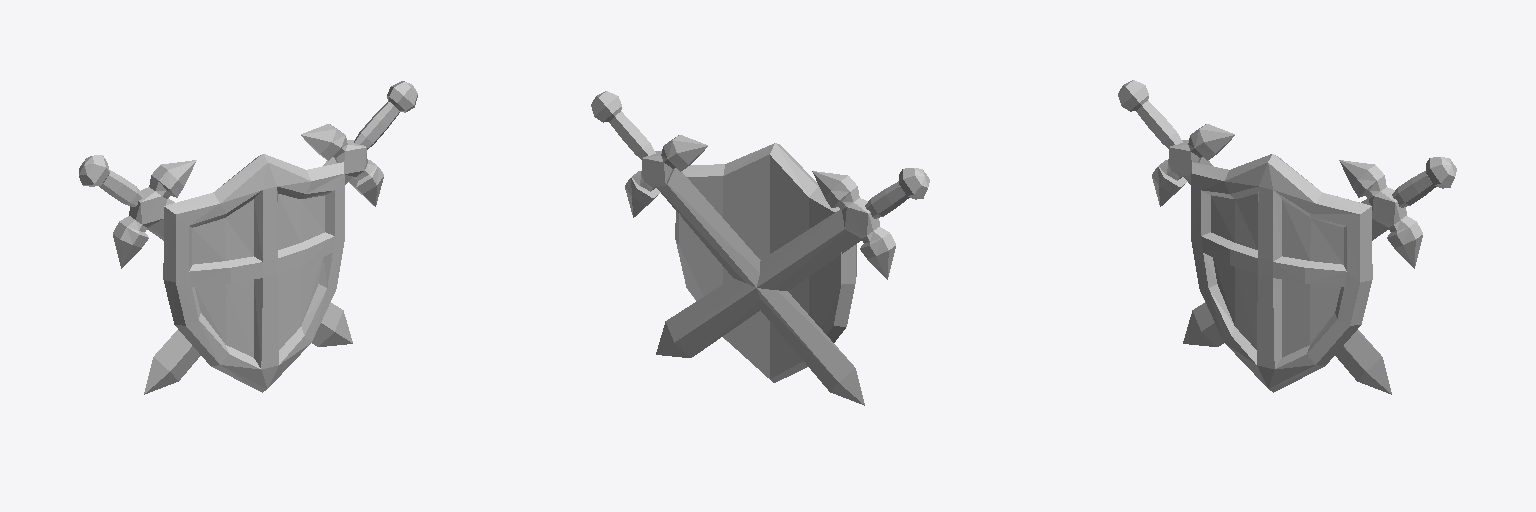
The model's file is sword_shield.obj.
3 renders of one model, left to right at view 1: azimuth 30°, elevation 25°; view 2: azimuth 150°, elevation 25°; view 3: azimuth 330°, elevation 25°, orthographic.
Visible parts, largest first — view 1: sword_shield; view 2: sword_shield; view 3: sword_shield.
Boxes of the visible parts, <box> form: sword_shield: <box>79,81,417,394</box>; sword_shield: <box>591,91,929,405</box>; sword_shield: <box>1118,80,1456,394</box>.
Bounding box in the file's own units: 2.23 × 1.67 × 0.3357.